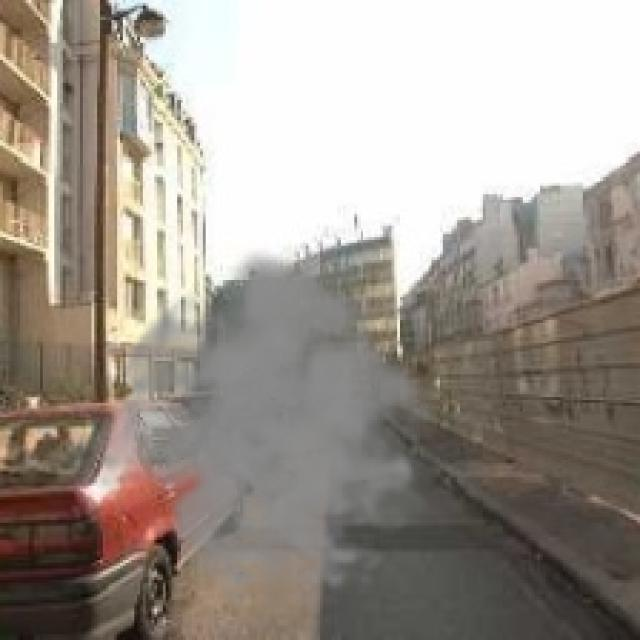Smoke: (82, 248, 452, 612)
